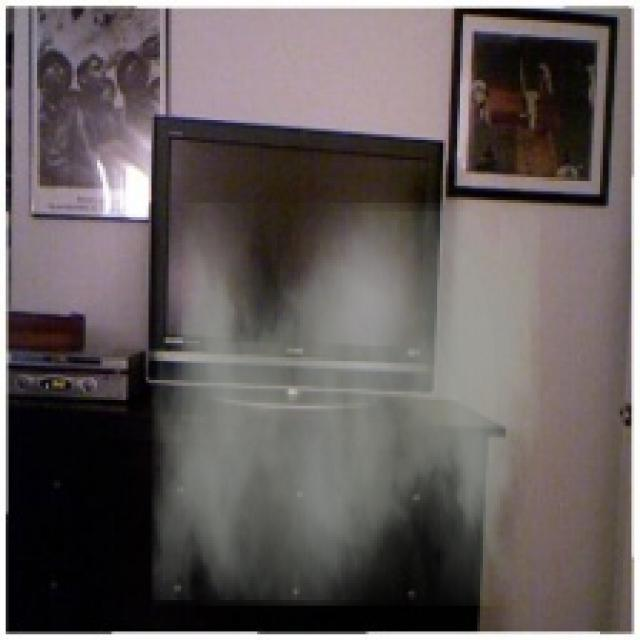Smoke: (151, 203, 540, 606)
